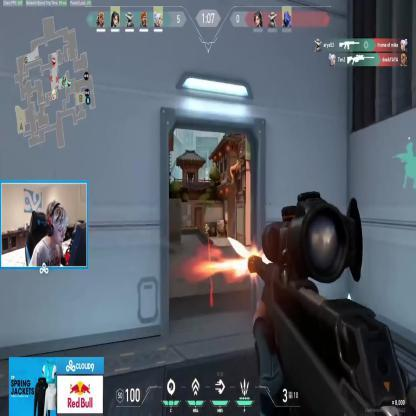enemy: (204, 223, 210, 245)
enemy_head: (206, 223, 208, 226)
